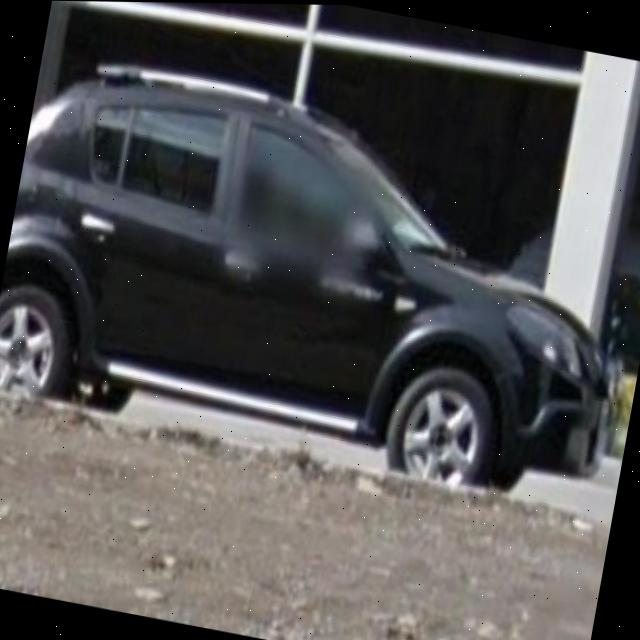vehicle: (0, 52, 640, 469)
